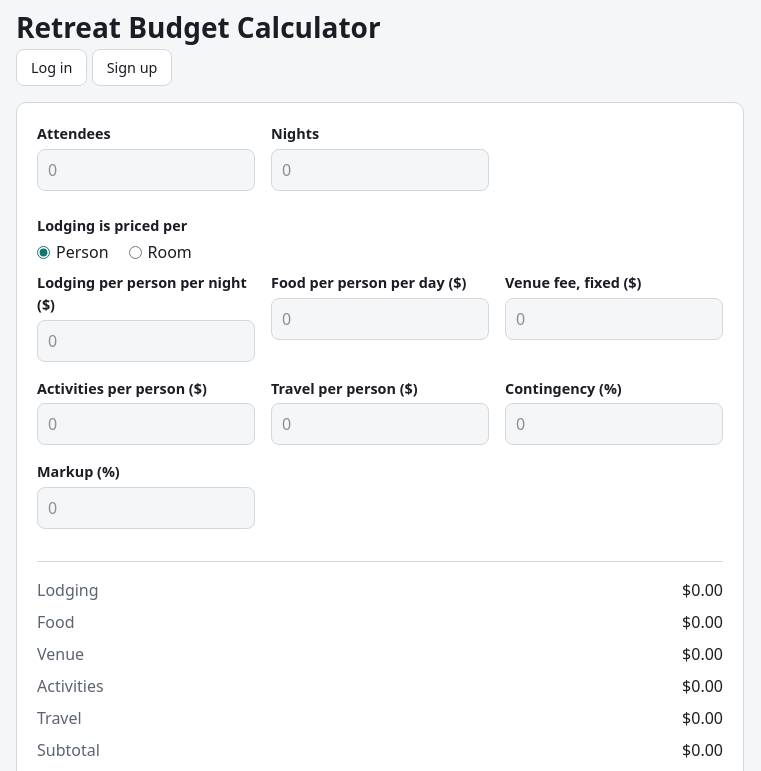
Test: calculator (signed out) › flags invalid input and excludes it from totals
This screenshot has width=761, height=771.
Type "1000" into the number field labelled "Venue fee, fixed ($)" at (614, 319), box [505,298,723,340]
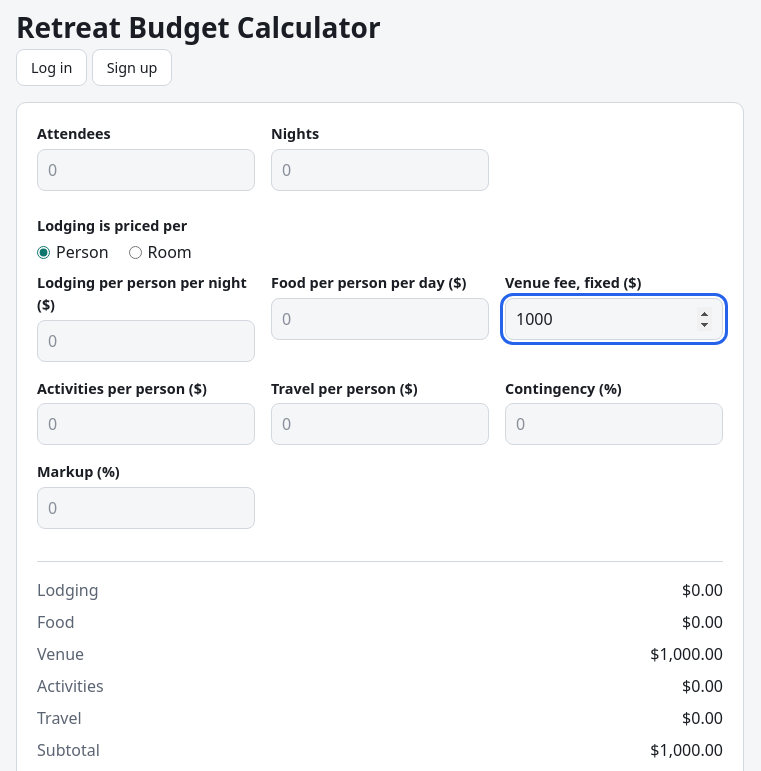
Result: the text with test id "subtotal" reads "$1,000.00" at [650,739,723,761]
Replace the text in the number field labelled "Venue fee, fixed ($)" with "-5" at (614, 319), box [505,298,723,340]
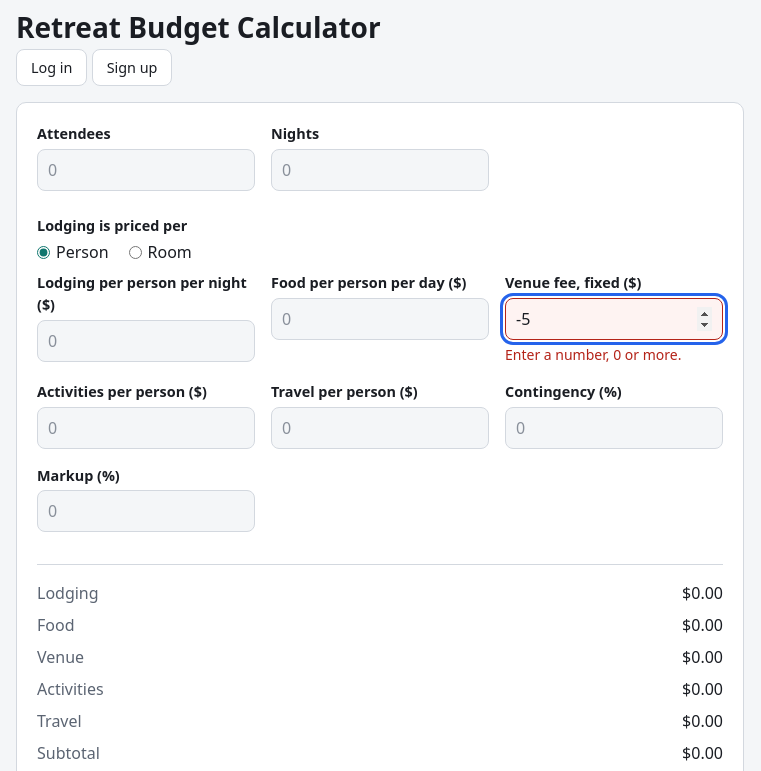
Result: the text with test id "subtotal" reads "$0.00" at [682,742,723,764]
Result: the message shows "0 or more" at [505,345,681,364]
